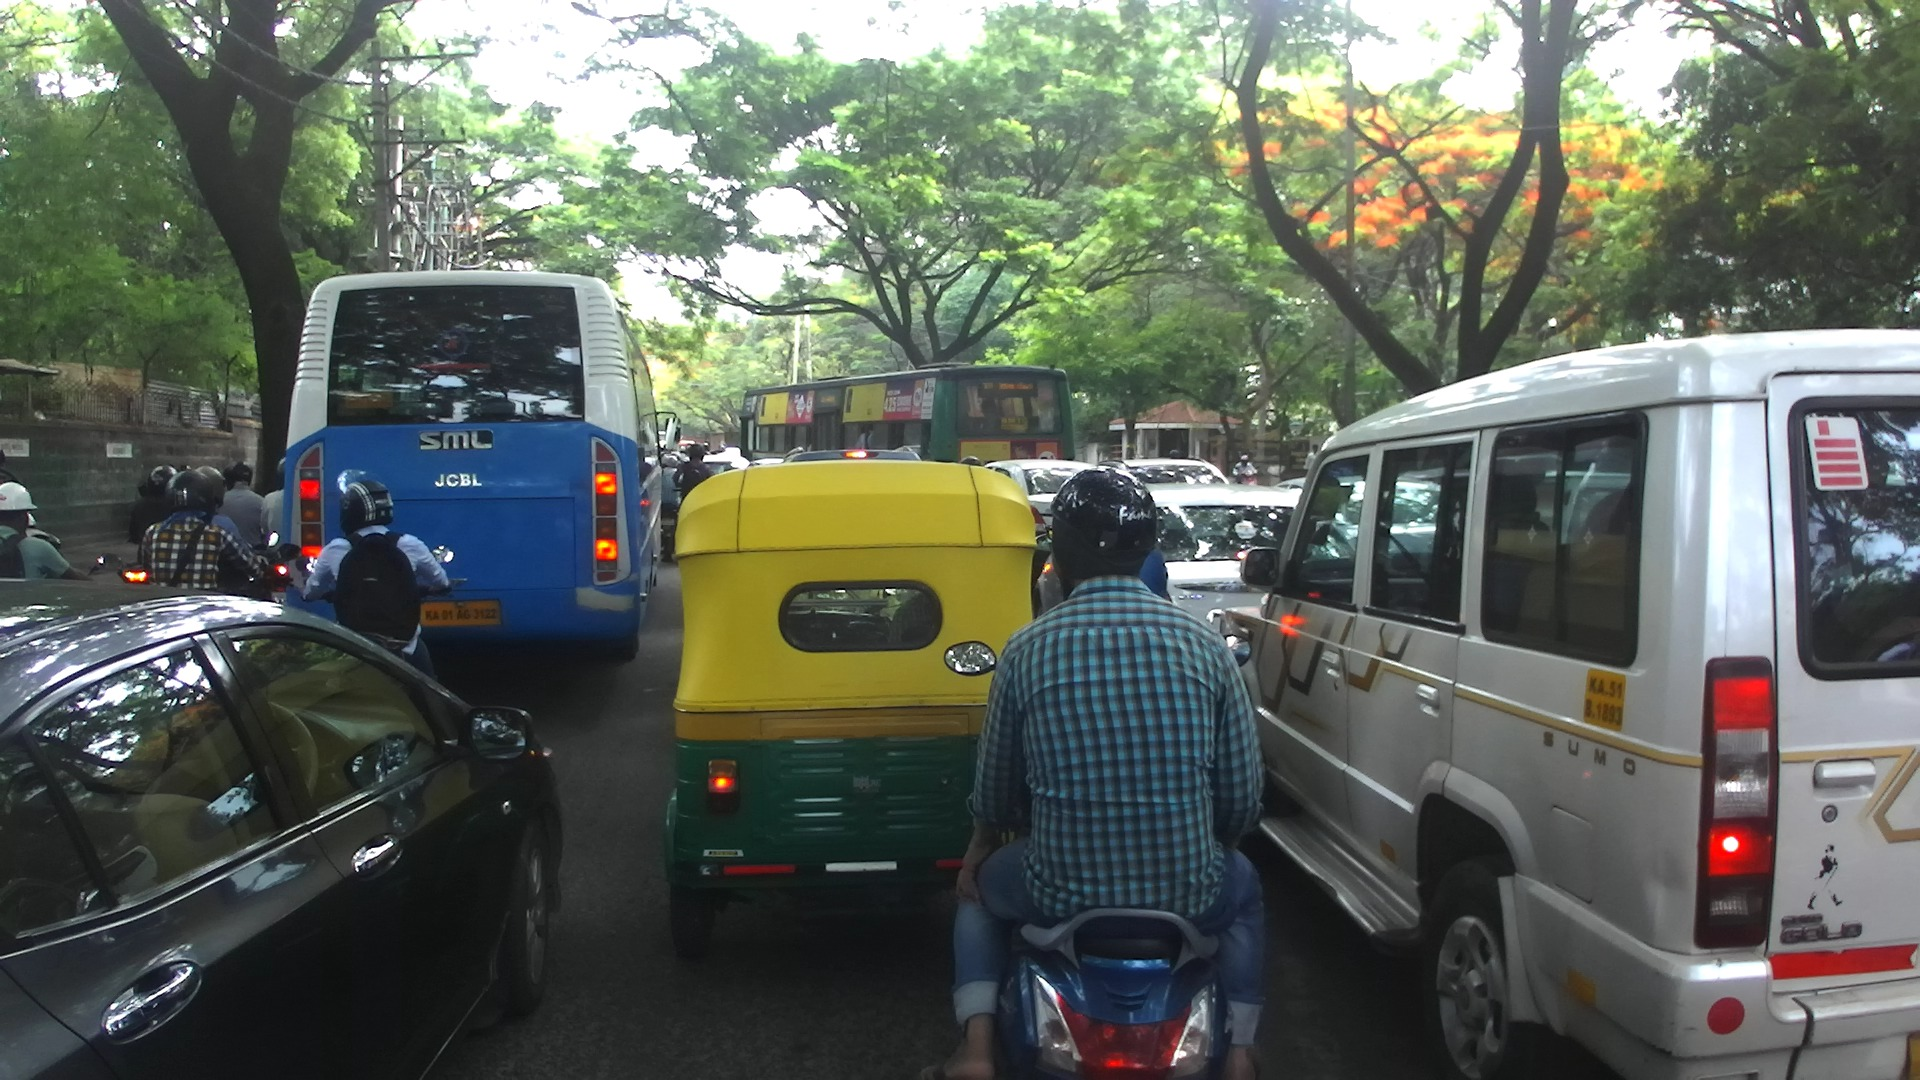autorickshaw: (663, 460, 1040, 959)
bus: (277, 271, 682, 661), (738, 362, 1080, 468)
car: (1205, 326, 1919, 1077), (1, 578, 565, 1080), (1033, 485, 1303, 684), (982, 458, 1100, 585), (1095, 459, 1232, 484), (782, 445, 921, 461), (698, 454, 753, 478), (660, 449, 690, 465), (1272, 477, 1307, 490), (747, 458, 787, 465), (678, 441, 694, 454)
motorcycle: (938, 632, 1246, 1078), (313, 544, 455, 661), (212, 543, 302, 598), (214, 527, 280, 593), (25, 513, 66, 557), (660, 502, 682, 563), (83, 551, 121, 580), (117, 561, 147, 586), (1233, 465, 1262, 484), (672, 486, 681, 495)
rider: (917, 469, 1247, 1080), (304, 480, 446, 686), (138, 467, 269, 594), (1, 483, 93, 583), (188, 464, 252, 568), (217, 461, 267, 553), (128, 465, 182, 547), (259, 455, 287, 553), (673, 442, 717, 500), (661, 456, 685, 511), (1230, 455, 1258, 481), (1303, 444, 1319, 471), (959, 456, 981, 467), (660, 442, 668, 458), (1169, 449, 1180, 460), (701, 442, 711, 455)
vehicle fallback: (659, 431, 668, 441)
